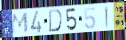4: (30, 10, 43, 35)
5: (84, 6, 97, 30), (65, 8, 78, 32)
D: (48, 9, 63, 33)
I: (105, 5, 110, 29)
M: (12, 12, 29, 35)
